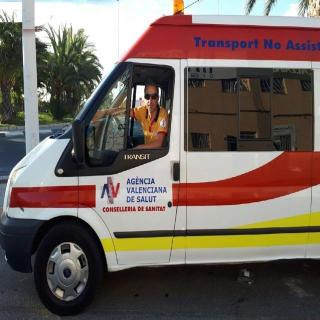Ambulance: (0, 11, 320, 319)
